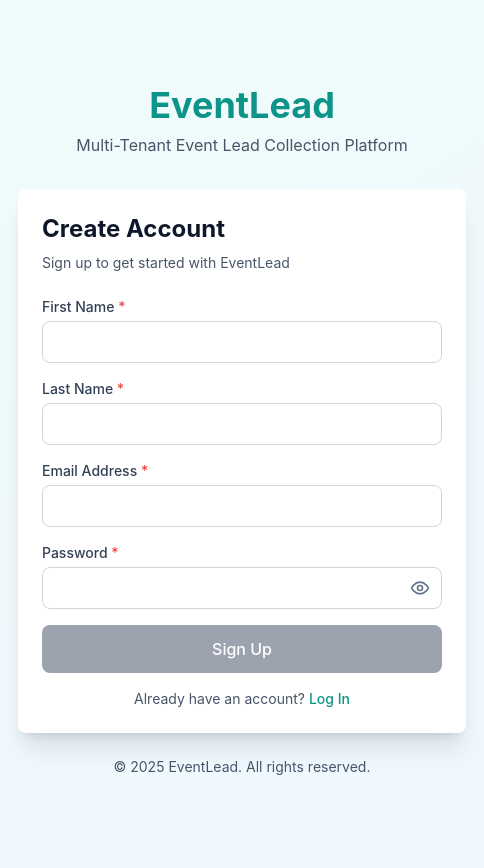
Scenario: SignupForm Component › Form Submission › should show loading state during submission
The image size is (484, 868).
Type "John" into the field labelled "First Name *" at point(242, 342), box [42,321,442,363]
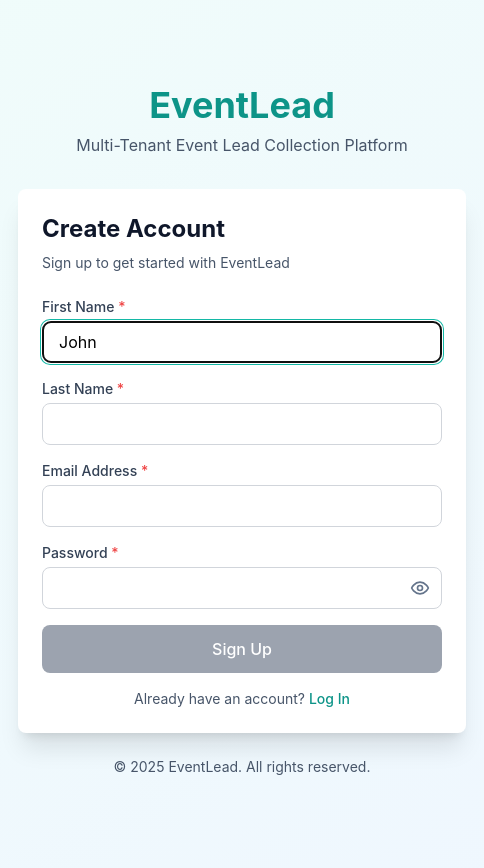
Type "Doe" into the field labelled "Last Name *" at point(242, 424), box [42,403,442,445]
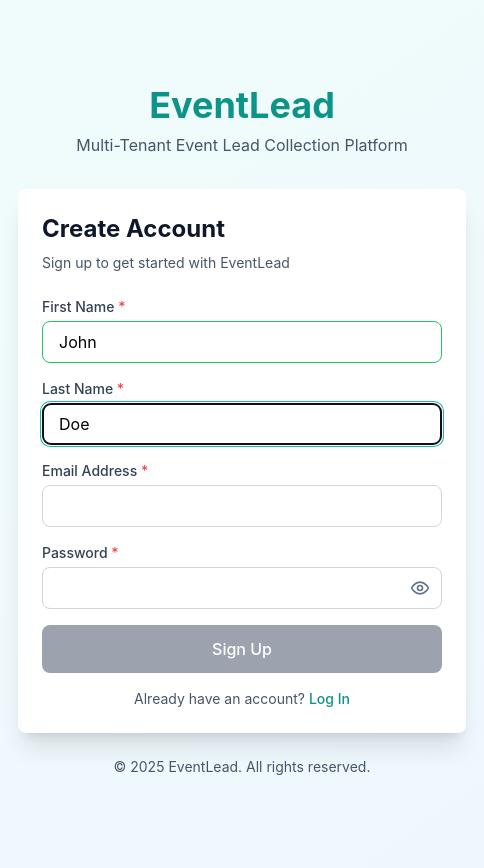
Type "john@example.com" into the field labelled "Email Address *" at point(242, 506), box [42,485,442,527]
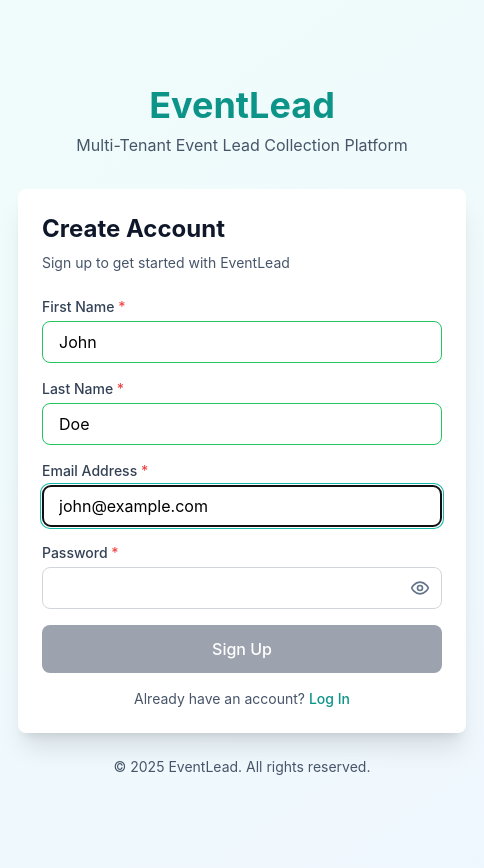
Type "Test1234!" into the password field labelled "Password *" at point(242, 588), box [42,567,442,609]
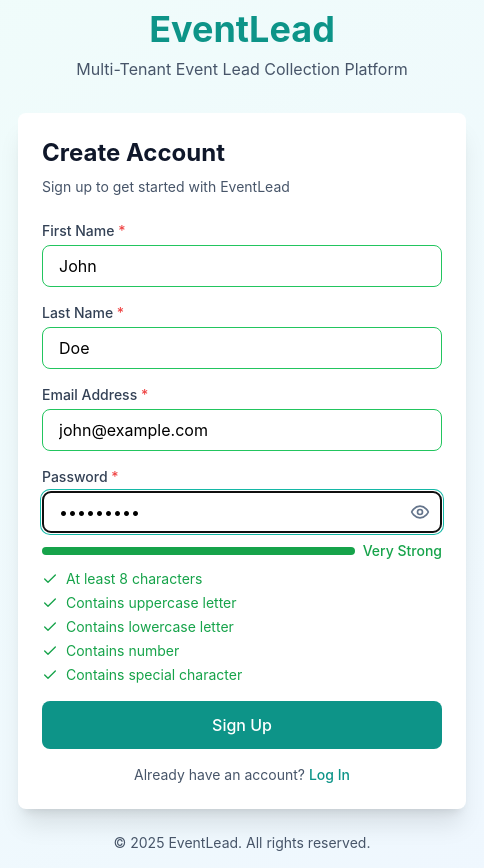
Click the button "Sign Up" at point(242, 725), box [42,701,442,749]
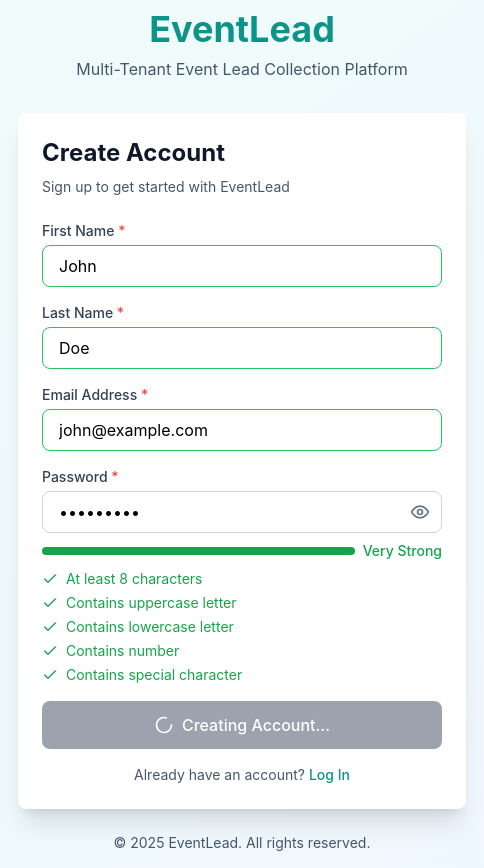
Result: the button "Creating Account..." is disabled at [42,701,442,749]
